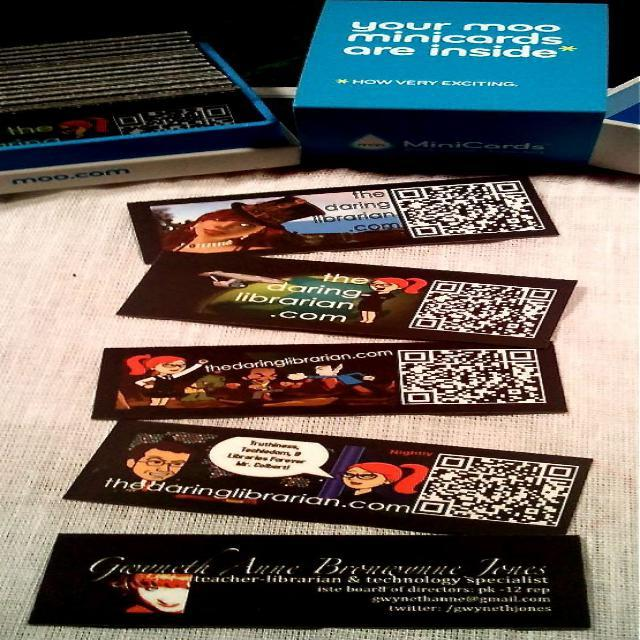qrcode: (415, 456, 578, 526), (394, 183, 543, 238), (412, 282, 556, 338), (401, 351, 544, 404)
